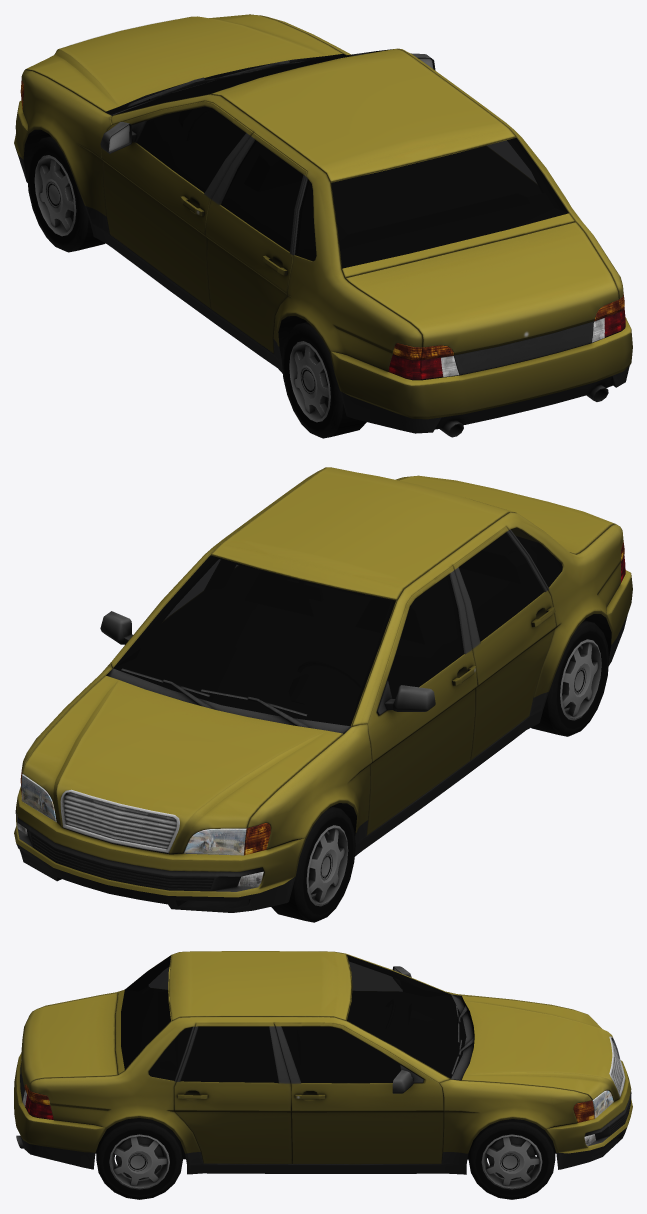
Rendered from test_car.glb.
3 views of the same model, one above another, from view 1: azimuth 30°, elevation 25°; view 2: azimuth 150°, elevation 25°; view 3: azimuth 270°, elevation 25° (orthographic). The views are drawn at different scales.
Visible parts, largest first — view 1: Sedan Body, Wheel_A001, Wheel_A; view 2: Sedan Body, Wheel_A, Wheel_A001; view 3: Sedan Body, Wheel_A003, Wheel_A002.
Part boxes in pixels (left/top/right/bottom): Sedan Body: left=14, top=14, right=632, bottom=437; Wheel_A001: left=282, top=322, right=366, bottom=438; Wheel_A: left=27, top=136, right=105, bottom=252; Sedan Body: left=14, top=467, right=632, bottom=912; Wheel_A: left=271, top=806, right=355, bottom=922; Wheel_A001: left=531, top=620, right=608, bottom=736; Sedan Body: left=14, top=951, right=632, bottom=1174; Wheel_A003: left=96, top=1118, right=182, bottom=1199; Wheel_A002: left=468, top=1119, right=555, bottom=1199.
Size of the model in its own units: 1.94 by 1.34 by 4.36.
Materials: 4 (3 with a texture image).
